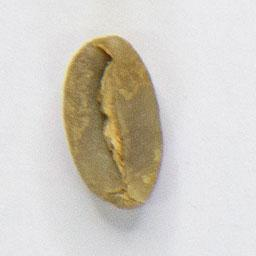longberry: (59, 30, 167, 213)
